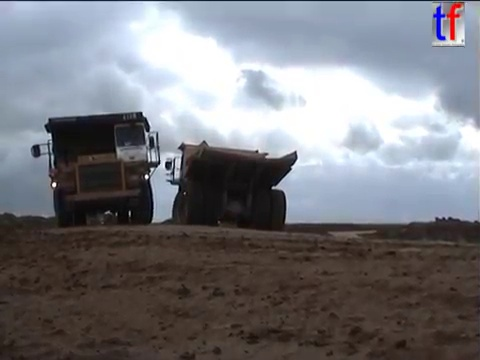excavator: (65, 165, 112, 229)
truck: (28, 109, 163, 229), (163, 138, 303, 231)
